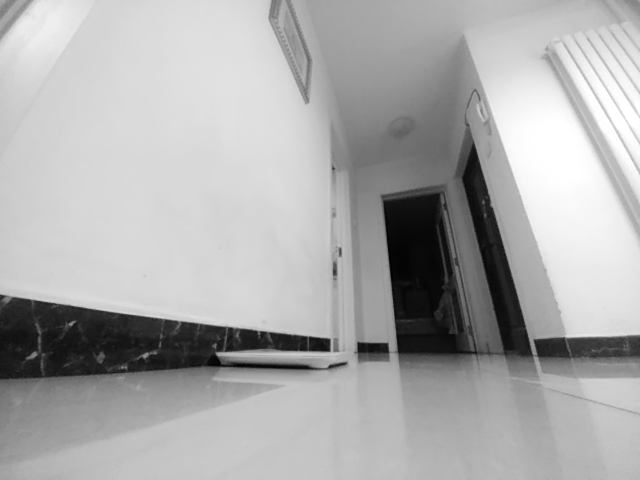scale: (215, 350, 352, 371)
